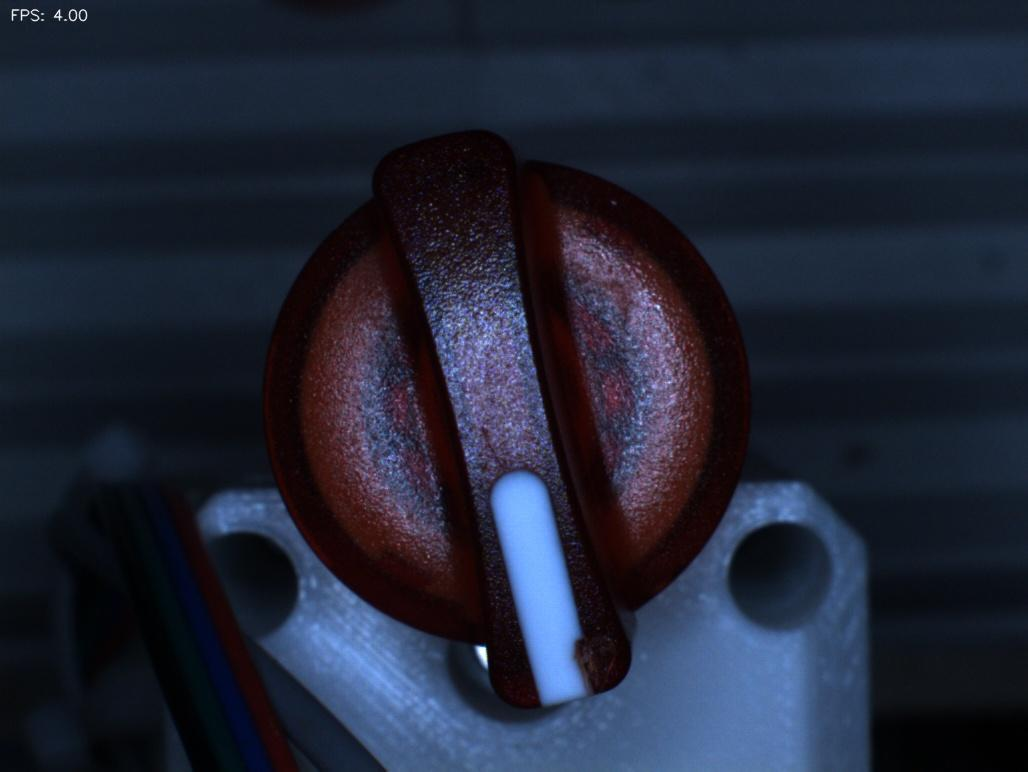Choc: (547, 607, 670, 711)
